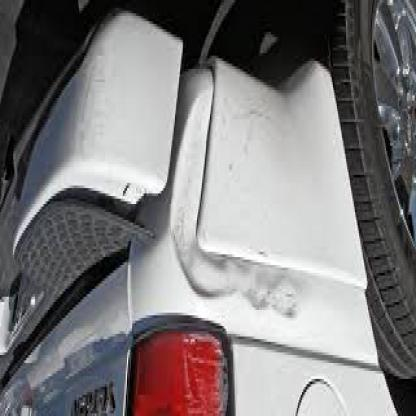dent: (181, 235, 297, 316)
